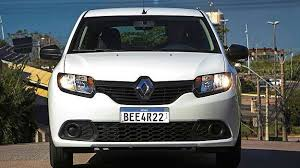car: (39, 7, 249, 166)
car_plate: (119, 106, 171, 124)
